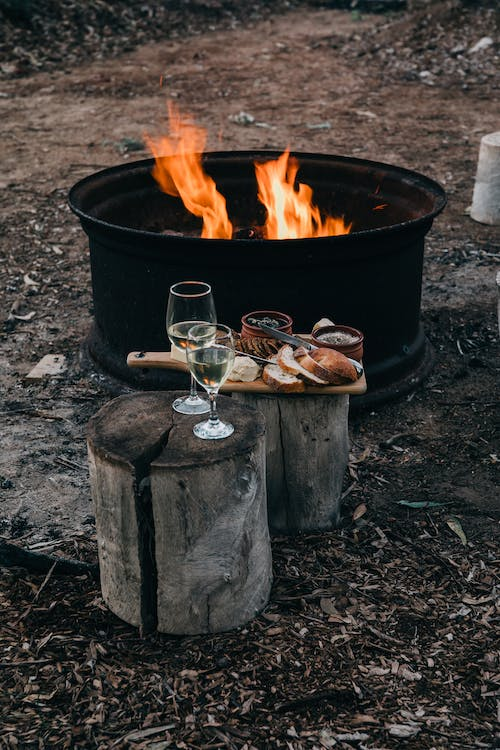alcohol: (164, 279, 218, 415), (185, 322, 236, 440)
